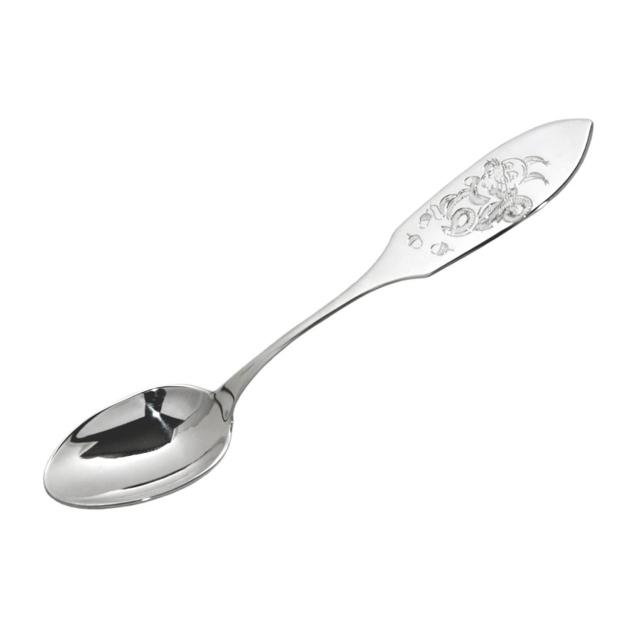spoon: (22, 107, 606, 512)
